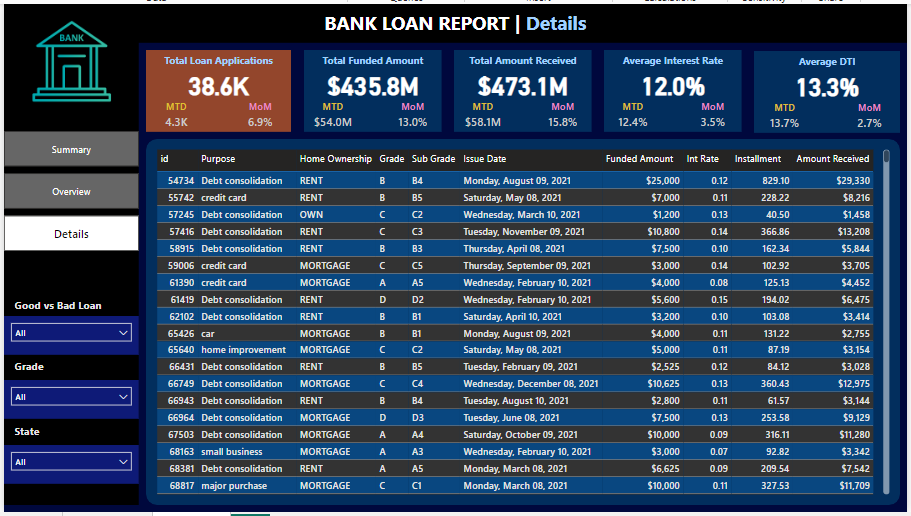

What the dashboard file says about the page in this screenshot:
{"tool":"powerbi","page":{"name":"Details","canvas":[1280,720],"ordinal":2},"visuals":[{"type":"shape","box":[0,45.4,191.3,664.7],"z":0},{"type":"shape","box":[637.5,64.6,195.4,116.4],"z":0,"group":"g3"},{"type":"shape","box":[850.1,65,195.4,116.4],"z":0,"group":"g4"},{"type":"shape","box":[201.3,65.2,205.5,116.2],"z":0,"group":"g1"},{"type":"shape","box":[424.8,65.7,195.4,116.4],"z":0,"group":"g2"},{"type":"shape","box":[1063,66.6,206.9,116.2],"z":0,"group":"g5"},{"type":"slicer","fields":{"Values":["bank_loan_data.Good vs Bad Loan"]},"box":[0,464.7,191.3,55.3],"z":0,"group":"g8"},{"type":"slicer","fields":{"Values":["bank_loan_data.grade"]},"box":[0,556,191.3,55.3],"z":0,"group":"g6"},{"type":"slicer","fields":{"Values":["bank_loan_data.address_state"]},"box":[0,648.1,191.3,55.3],"z":0,"group":"g7"},{"type":"shape","box":[0,0,1280,55],"z":1000},{"type":"card","fields":{"Values":["bank_loan_data.Total Amount Received"]},"box":[637.5,91.9,195.4,43.1],"z":1000,"group":"g3"},{"type":"card","fields":{"Values":["bank_loan_data.Average Interest Rate"]},"box":[850.1,92.3,195.4,43.1],"z":1000,"group":"g4"},{"type":"card","fields":{"Values":["bank_loan_data.Total Loan Applications"]},"box":[201.3,92.5,205.5,43],"z":1000,"group":"g1"},{"type":"card","fields":{"Values":["bank_loan_data.Total Funded Amount"]},"box":[424.8,93,195.4,43.1],"z":1000,"group":"g2"},{"type":"card","fields":{"Values":["bank_loan_data.Average DTI"]},"box":[1063,93.9,206.9,43],"z":1000,"group":"g5"},{"type":"textbox","box":[9.9,433.1,161.6,32.6],"z":1000,"group":"g8"},{"type":"textbox","box":[9.9,520.6,86.5,35.4],"z":1000,"group":"g6"},{"type":"textbox","box":[9.9,612.7,86.5,35.4],"z":1000,"group":"g7"},{"type":"textbox","box":[637.5,64.6,195.4,37.4],"z":2000,"group":"g3"},{"type":"textbox","box":[850.1,65,195.4,37.4],"z":2000,"group":"g4"},{"type":"textbox","box":[201.3,65.2,205.5,37.3],"z":2000,"group":"g1"},{"type":"textbox","box":[424.8,65.7,195.4,37.4],"z":2000,"group":"g2"},{"type":"textbox","box":[1063,66.6,206.9,37.3],"z":2000,"group":"g5"},{"type":"textbox","box":[9.9,349.1,126.1,35.4],"z":2000,"group":"g9"},{"type":"card","title":"MTD","fields":{"Values":["bank_loan_data.MTD Total Amount Recieved"]},"box":[637.5,135,81.9,48.8],"z":3000,"group":"g3"},{"type":"card","title":"MTD","fields":{"Values":["bank_loan_data.MTD Average Interest Rate"]},"box":[850.1,135.4,81.9,48.8],"z":3000,"group":"g4"},{"type":"card","title":"MTD","fields":{"Values":["bank_loan_data.MTD Loan Applications"]},"box":[201.3,135.5,86.1,48.8],"z":3000,"group":"g1"},{"type":"card","title":"MTD","fields":{"Values":["bank_loan_data.MTD Funded Amount"]},"box":[424.8,136.1,81.9,48.8],"z":3000,"group":"g2"},{"type":"card","title":"MTD","fields":{"Values":["bank_loan_data.MTD Average DTI"]},"box":[1063,136.9,86.7,48.8],"z":3000,"group":"g5"},{"type":"shape","box":[201.3,191.3,1068.7,518.7],"z":3000},{"type":"textbox","box":[415.7,2.9,448.6,48.6],"z":4000},{"type":"card","title":"MoM","fields":{"Values":["bank_loan_data.MoM Total Amount Received"]},"box":[751,135,81.9,48.8],"z":4000,"group":"g3"},{"type":"card","title":"MoM","fields":{"Values":["bank_loan_data.MoM Average Interest Rate"]},"box":[963.6,135.4,81.9,48.8],"z":4000,"group":"g4"},{"type":"card","title":"MoM","fields":{"Values":["bank_loan_data.MoM Loan Applications"]},"box":[320.7,135.5,86.1,48.8],"z":4000,"group":"g1"},{"type":"card","title":"MoM","fields":{"Values":["bank_loan_data.MoM Total Funded Amount"]},"box":[538.3,136.1,81.9,48.8],"z":4000,"group":"g2"},{"type":"card","title":"MoM","fields":{"Values":["bank_loan_data.MoM Average DTI"]},"box":[1183.2,136.9,86.7,48.8],"z":4000,"group":"g5"},{"type":"group","id":"g1","title":"Group 1","box":[201.3,65.2,205.5,119.1],"z":5000},{"type":"group","id":"g2","title":"Group 1","box":[424.8,65.7,195.4,119.2],"z":6000},{"type":"group","id":"g3","title":"Group 1","box":[637.5,64.6,195.4,119.2],"z":7000},{"type":"group","id":"g4","title":"Group 1","box":[850.1,65,195.4,119.2],"z":8000},{"type":"group","id":"g5","title":"Group 1","box":[1063,66.6,206.9,119.1],"z":9000},{"type":"group","id":"g6","title":"Group 2","box":[0,520.6,191.3,90.7],"z":10000},{"type":"group","id":"g7","title":"Group 2","box":[0,612.7,191.3,90.7],"z":11000},{"type":"group","id":"g8","title":"Group 2","box":[0,433.1,191.3,86.9],"z":12000},{"type":"slicer","fields":{"Values":["Select Measure.Select Measure"]},"box":[0,384.5,191.3,49.6],"z":13000,"group":"g9"},{"type":"tableEx","fields":{"Values":["bank_loan_data.id","bank_loan_data.purpose","bank_loan_data.home_ownership","bank_loan_data.grade","bank_loan_data.sub_grade","bank_loan_data.issue_date","bank_loan_data.Total Funded Amount","Sum(bank_loan_data.int_rate)","Sum(bank_loan_data.installment)","bank_loan_data.Total Amount Received"]},"box":[211.2,201.3,1048.8,498.9],"z":14000},{"type":"image","box":[0,0,191.3,161.6],"z":14001},{"type":"pageNavigator","box":[0,172.9,191.3,170.1],"z":14002},{"type":"group","id":"g9","title":"Group 3","box":[0,349.1,191.3,85],"z":14003}]}

Visuals, with their boxes on the page's 1280x720 design canvas (x1, y1, x2, y2). These are canvas units, not pixel positions in the 911x516 screenshot, which may show the page scaled, cropped or inside an application window:
shape: x1=0, y1=45, x2=191, y2=710
shape: x1=638, y1=65, x2=833, y2=181
shape: x1=850, y1=65, x2=1046, y2=181
shape: x1=201, y1=65, x2=407, y2=181
shape: x1=425, y1=66, x2=620, y2=182
shape: x1=1063, y1=67, x2=1270, y2=183
slicer - bank_loan_data.Good vs Bad Loan: x1=0, y1=465, x2=191, y2=520
slicer - bank_loan_data.grade: x1=0, y1=556, x2=191, y2=611
slicer - bank_loan_data.address_state: x1=0, y1=648, x2=191, y2=703
shape: x1=0, y1=0, x2=1280, y2=55
card - bank_loan_data.Total Amount Received: x1=638, y1=92, x2=833, y2=135
card - bank_loan_data.Average Interest Rate: x1=850, y1=92, x2=1046, y2=135
card - bank_loan_data.Total Loan Applications: x1=201, y1=92, x2=407, y2=136
card - bank_loan_data.Total Funded Amount: x1=425, y1=93, x2=620, y2=136
card - bank_loan_data.Average DTI: x1=1063, y1=94, x2=1270, y2=137
textbox: x1=10, y1=433, x2=172, y2=466
textbox: x1=10, y1=521, x2=96, y2=556
textbox: x1=10, y1=613, x2=96, y2=648
textbox: x1=638, y1=65, x2=833, y2=102
textbox: x1=850, y1=65, x2=1046, y2=102
textbox: x1=201, y1=65, x2=407, y2=102
textbox: x1=425, y1=66, x2=620, y2=103
textbox: x1=1063, y1=67, x2=1270, y2=104
textbox: x1=10, y1=349, x2=136, y2=384
"MTD" card: x1=638, y1=135, x2=719, y2=184
"MTD" card: x1=850, y1=135, x2=932, y2=184
"MTD" card: x1=201, y1=136, x2=287, y2=184
"MTD" card: x1=425, y1=136, x2=507, y2=185
"MTD" card: x1=1063, y1=137, x2=1150, y2=186
shape: x1=201, y1=191, x2=1270, y2=710
textbox: x1=416, y1=3, x2=864, y2=52
"MoM" card: x1=751, y1=135, x2=833, y2=184
"MoM" card: x1=964, y1=135, x2=1046, y2=184
"MoM" card: x1=321, y1=136, x2=407, y2=184
"MoM" card: x1=538, y1=136, x2=620, y2=185
"MoM" card: x1=1183, y1=137, x2=1270, y2=186
"Group 1" group: x1=201, y1=65, x2=407, y2=184
"Group 1" group: x1=425, y1=66, x2=620, y2=185
"Group 1" group: x1=638, y1=65, x2=833, y2=184
"Group 1" group: x1=850, y1=65, x2=1046, y2=184
"Group 1" group: x1=1063, y1=67, x2=1270, y2=186
"Group 2" group: x1=0, y1=521, x2=191, y2=611
"Group 2" group: x1=0, y1=613, x2=191, y2=703
"Group 2" group: x1=0, y1=433, x2=191, y2=520
slicer - Select Measure.Select Measure: x1=0, y1=384, x2=191, y2=434
tableEx - bank_loan_data.id x bank_loan_data.purpose: x1=211, y1=201, x2=1260, y2=700
image: x1=0, y1=0, x2=191, y2=162
pageNavigator: x1=0, y1=173, x2=191, y2=343
"Group 3" group: x1=0, y1=349, x2=191, y2=434
